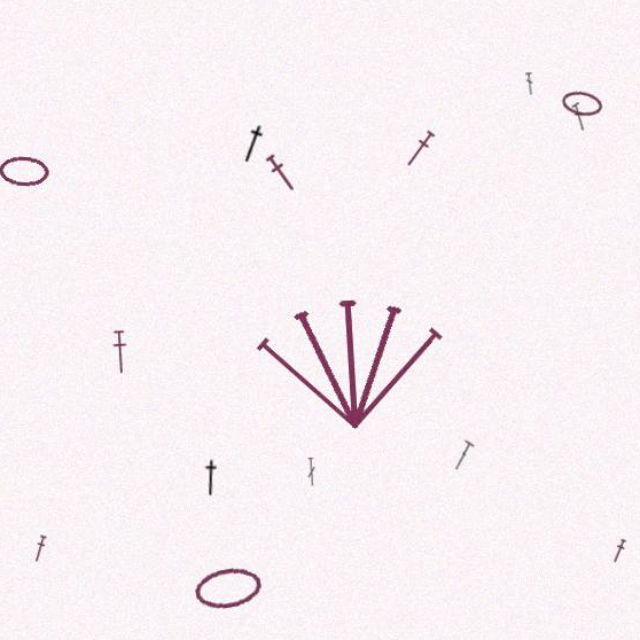chain: (181, 500, 244, 543), (12, 144, 58, 172), (502, 86, 541, 113)
double: (406, 392, 428, 420), (512, 98, 526, 123), (281, 408, 290, 433), (472, 72, 480, 92)
fan: (231, 251, 409, 389)
half_double: (243, 141, 275, 179), (219, 115, 250, 154), (364, 121, 395, 157), (188, 409, 208, 442), (110, 297, 127, 335), (41, 475, 56, 500), (546, 478, 561, 501)
